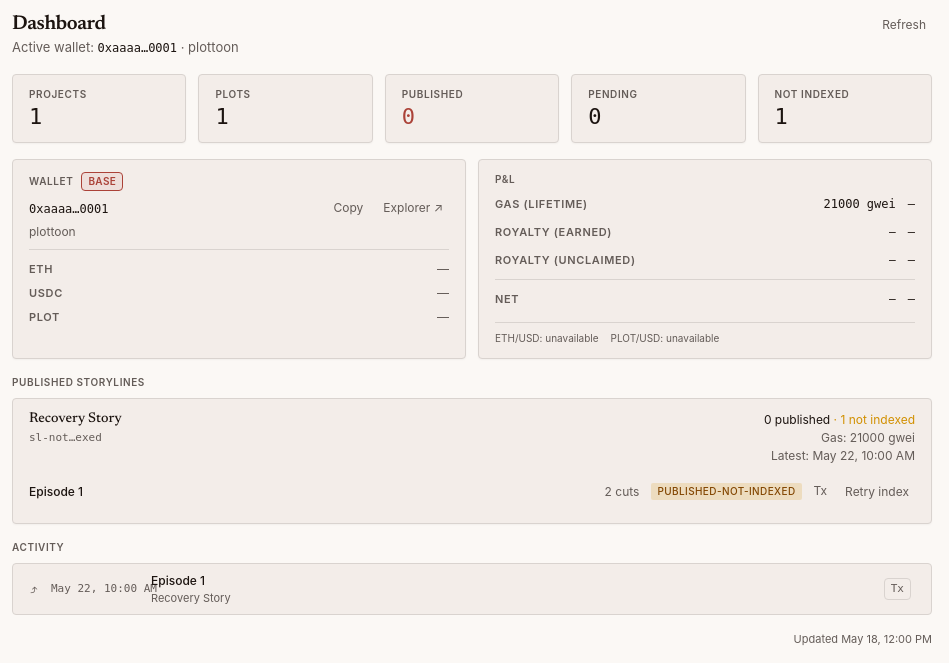
#251 Local production — retry index on not-indexed plots › shows the retry error inline when publish.retryIndex returns success:false (no dashboard reload)
Click the button with test id "retry-index-proj-ni-ep-1".
click(877, 492)  # box x1=839 y1=479 x2=915 y2=505
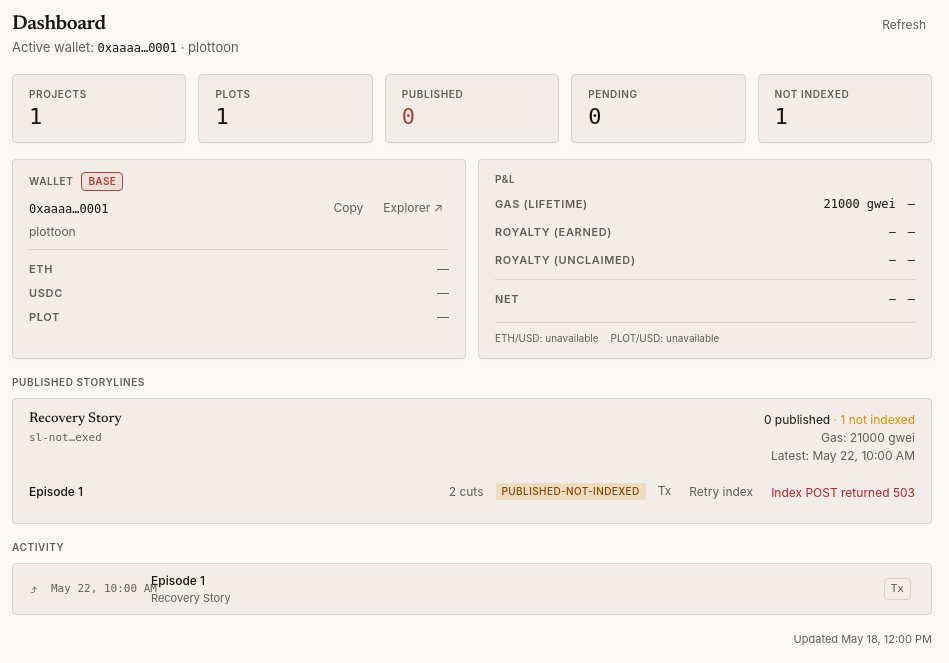
Result: the text with test id "retry-index-error-proj-ni-ep-1" reads "Index POST returned 503" at x1=771 y1=485 x2=915 y2=500
